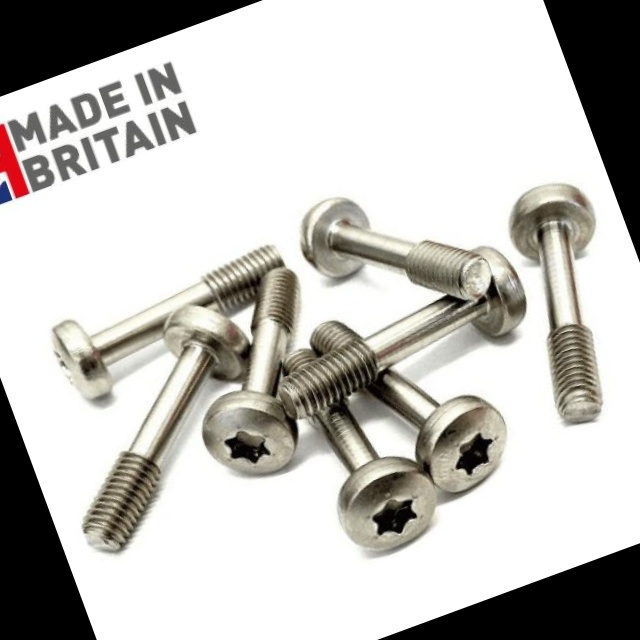torx: (323, 444, 451, 566), (400, 382, 525, 504), (189, 374, 309, 494)
